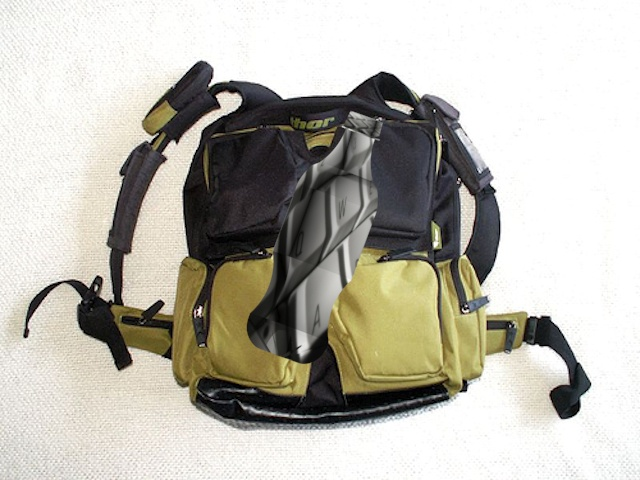bottle: (241, 105, 384, 368)
